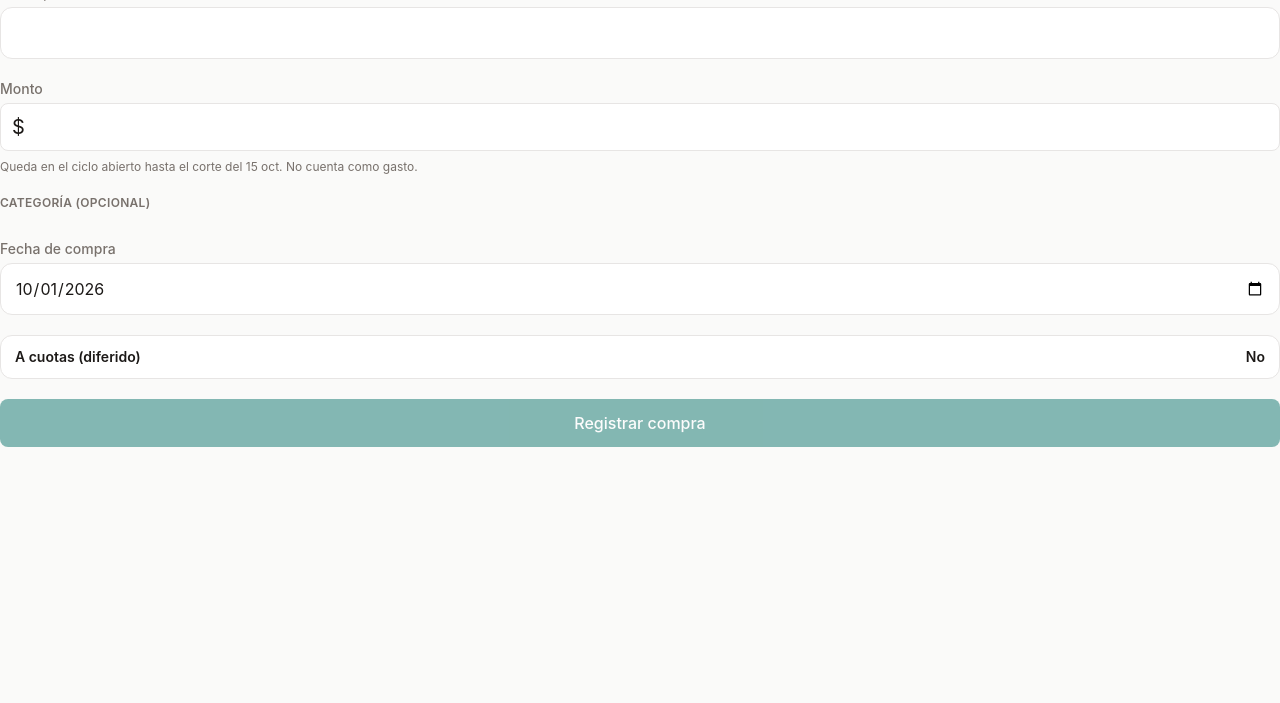
Test: PurchaseForm › accepts a custom count of 60
The width and height of the screenshot is (1280, 703).
Click the switch labelled "A cuotas (diferido) No". click: (78, 357)
box: [0,335,1279,379]
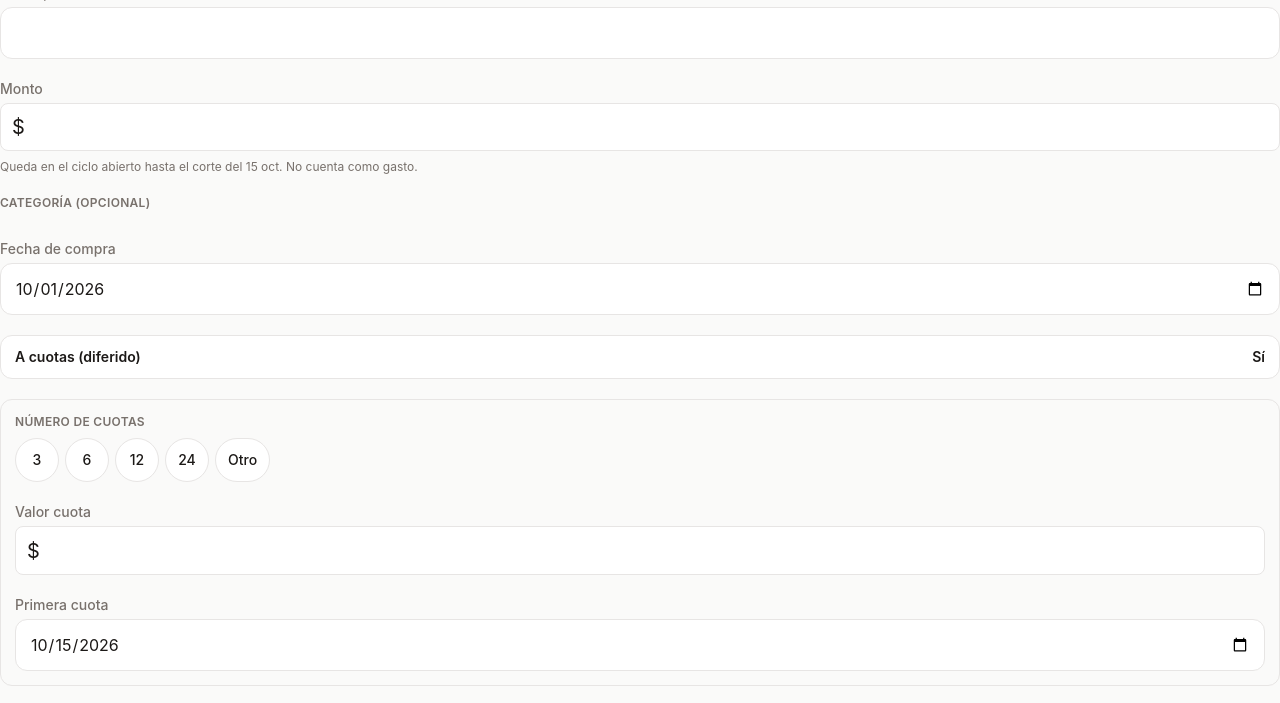
Click the button "Otro". click: (243, 460)
box: [215,438,270,482]
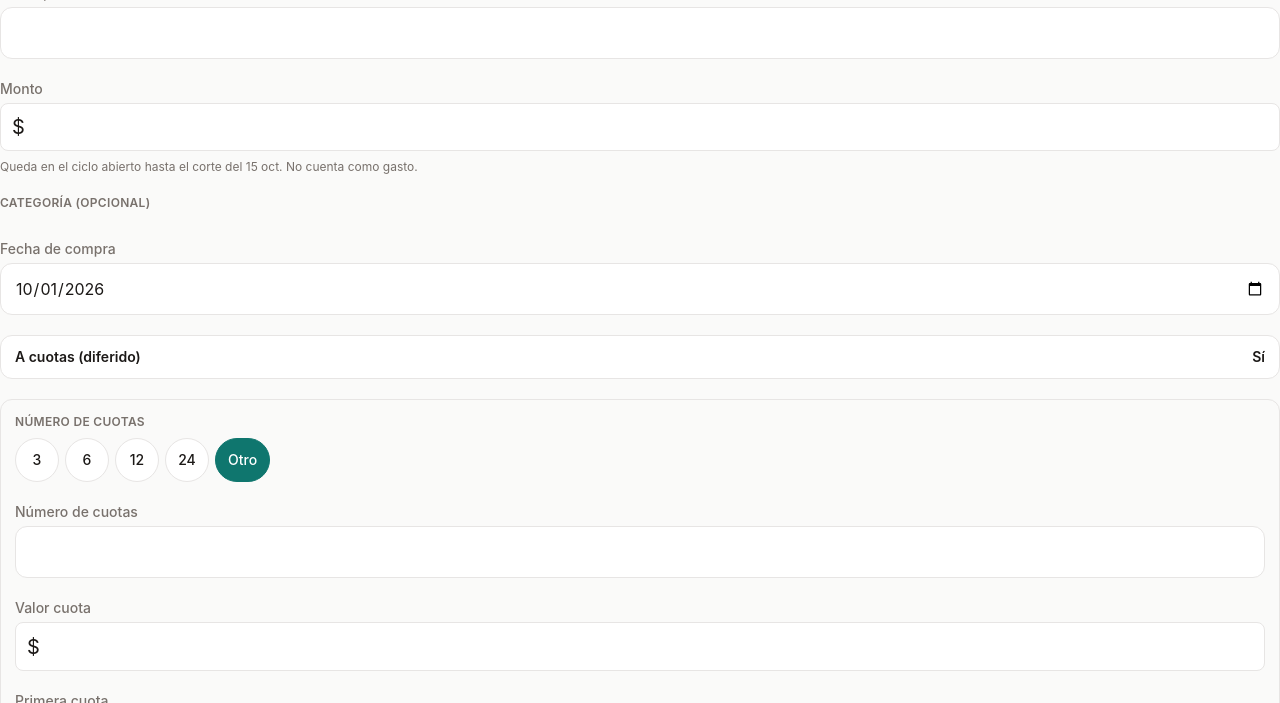
Type "60" into the number field labelled "Número de cuotas". click: (640, 552)
box: [15,526,1265,578]
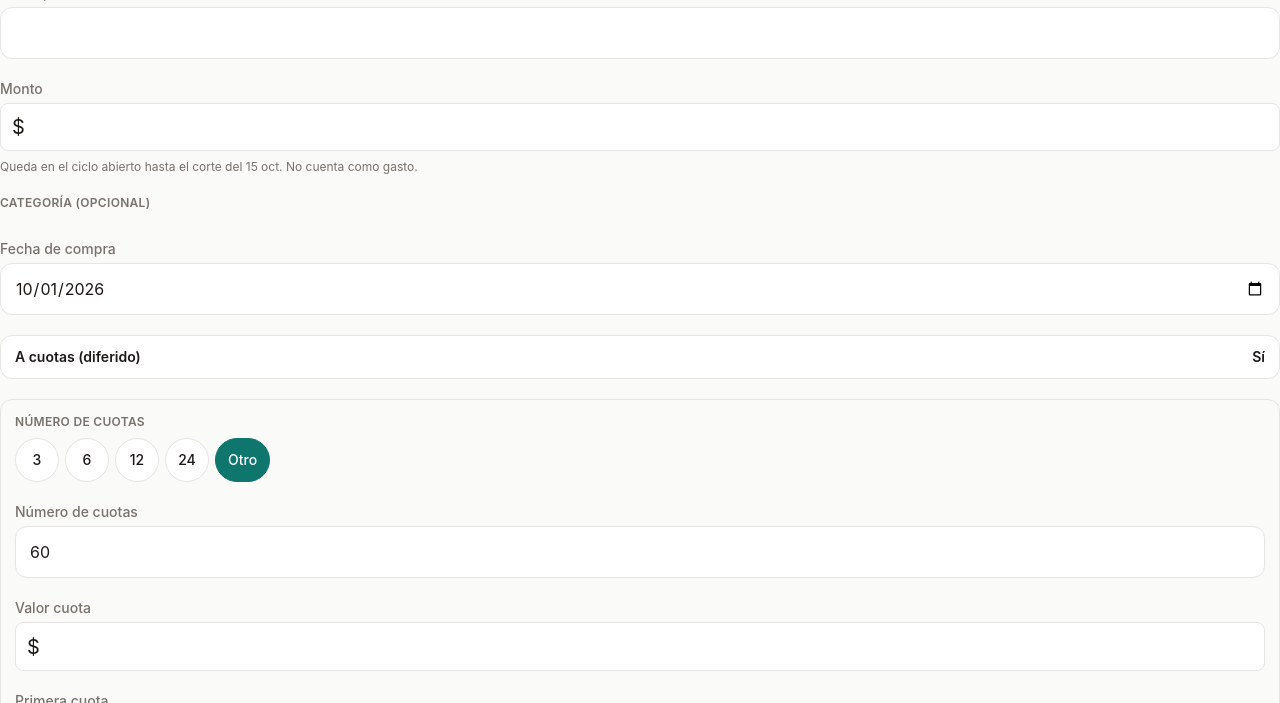
Type "Colchón" into the field labelled "Descripción". click: (640, 33)
box: [0,7,1279,59]
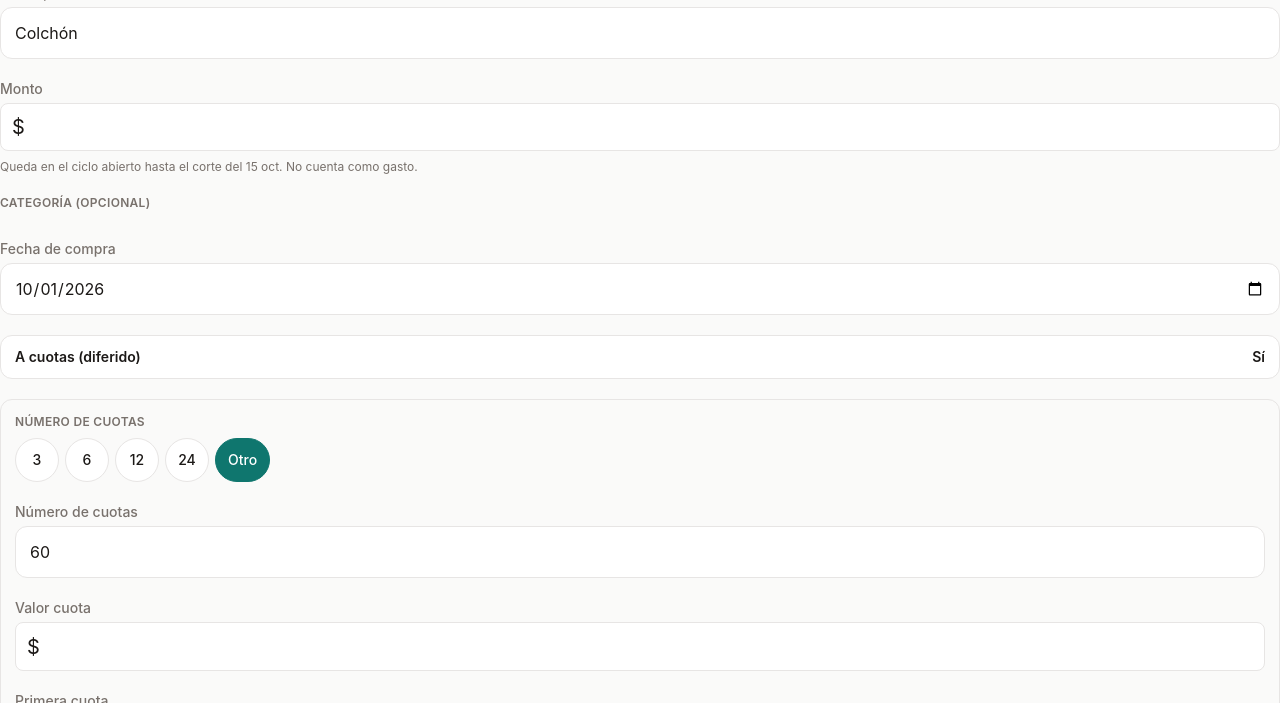
Type "1.080.000" into the field labelled "Monto". click: (640, 127)
box: [0,103,1279,151]
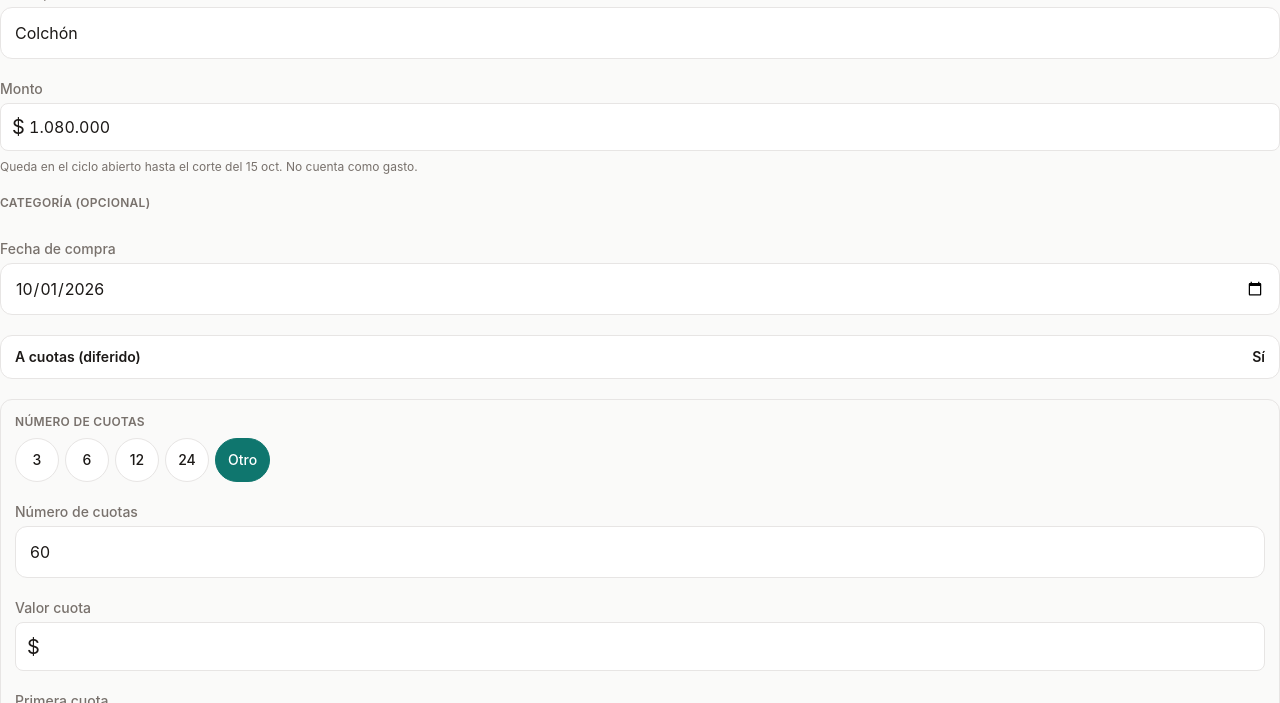
Type "18.000" into the field labelled "Valor cuota". click: (640, 647)
box: [15,622,1265,671]
(page scrolled)
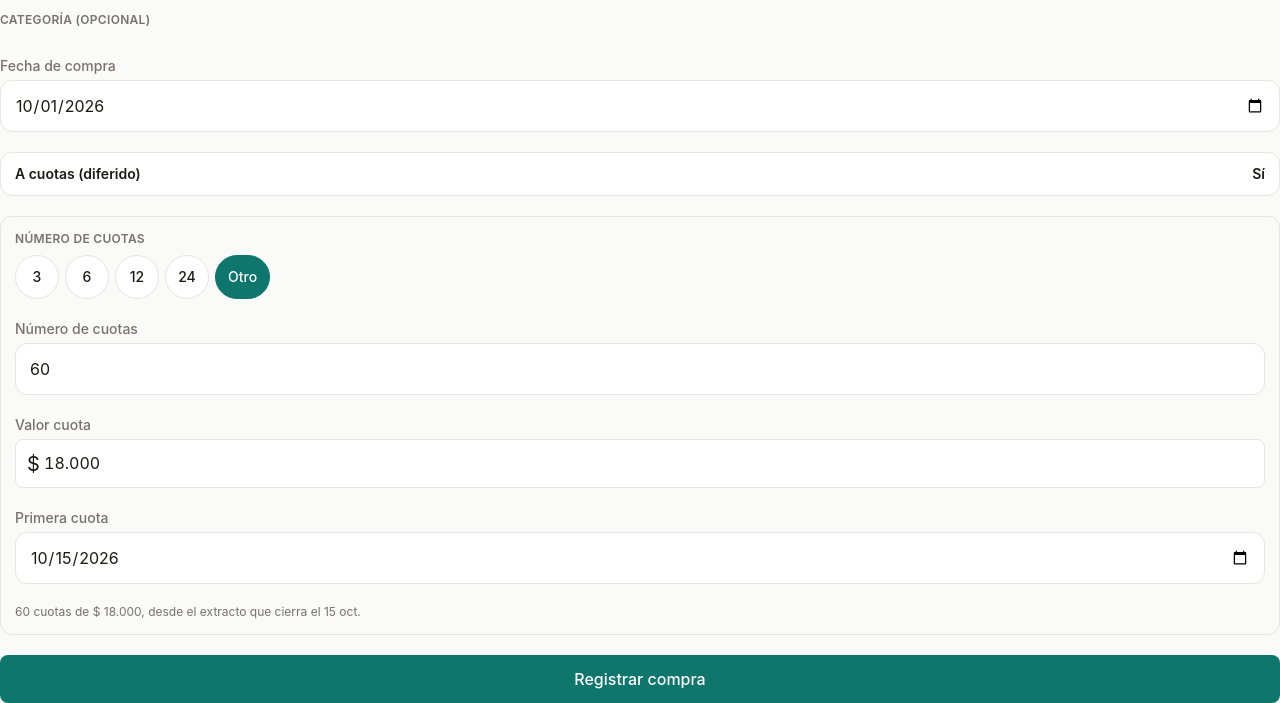
Check: the button "Registrar compra" is enabled, box [0,655,1279,702]
